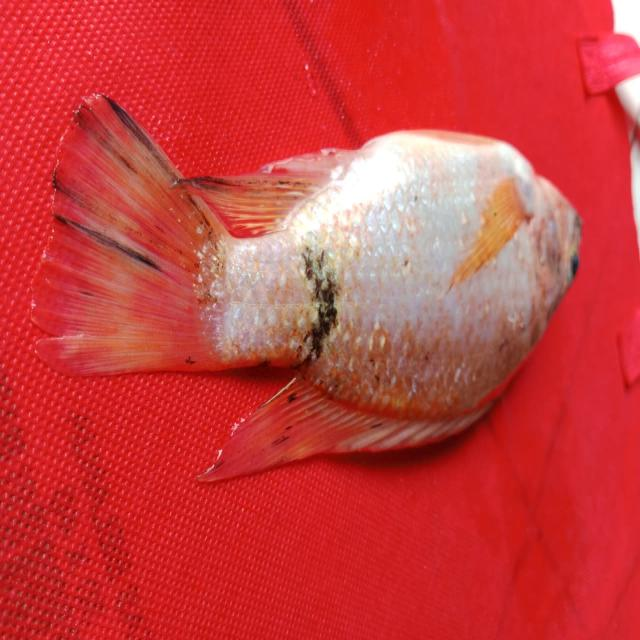ikan: (28, 67, 599, 497)
